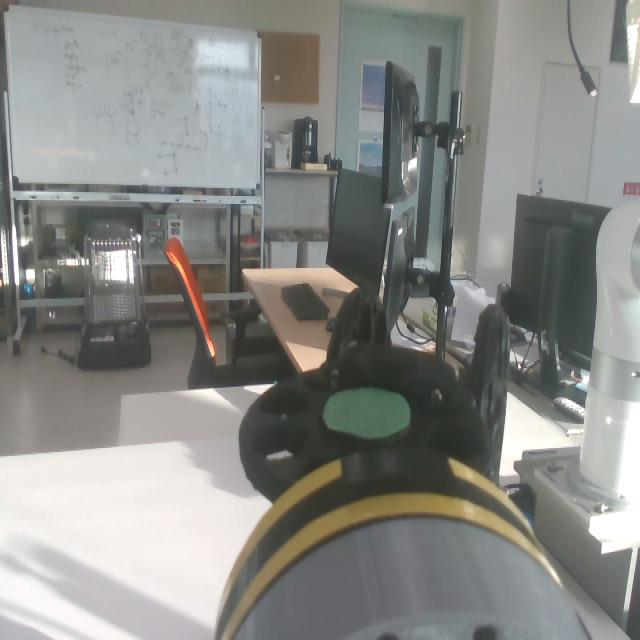body_connector: (230, 520, 589, 640)
connection: (212, 456, 591, 640)
leg: (214, 288, 549, 640)
leg_connector: (211, 449, 549, 640)
marker: (322, 385, 413, 437)
